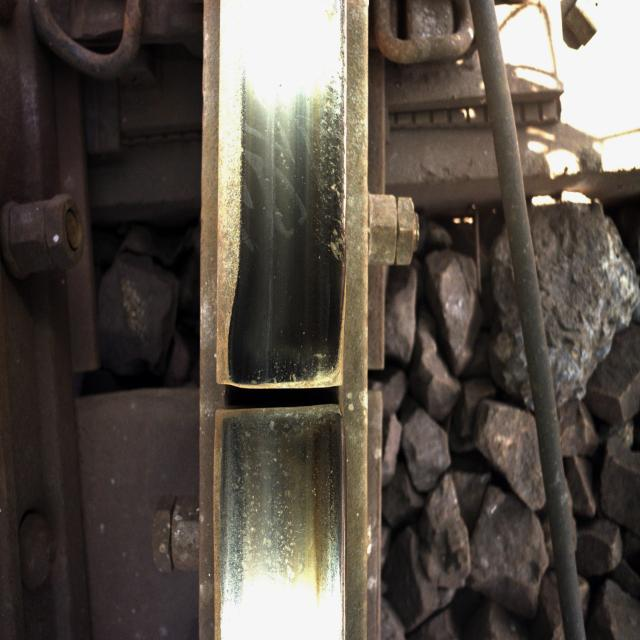spalling: (192, 316, 366, 474)
